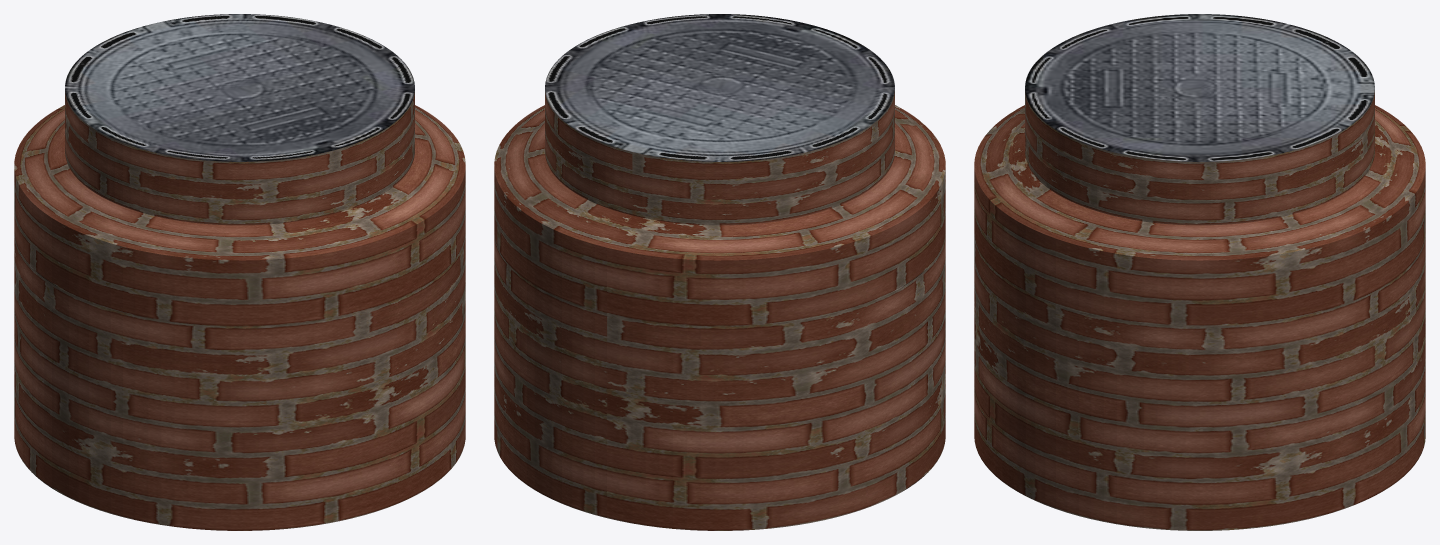
Rendered from well.glb.
3 renders of one model, left to right at view 1: azimuth 30°, elevation 25°; view 2: azimuth 150°, elevation 25°; view 3: azimuth 270°, elevation 25°, orthographic.
Visible parts, largest first — view 1: Cylinder.001; view 2: Cylinder.001; view 3: Cylinder.001.
Part boxes in pixels (bbox=[...]): Cylinder.001: bbox=[14, 14, 465, 530]; Cylinder.001: bbox=[494, 14, 945, 530]; Cylinder.001: bbox=[974, 14, 1425, 530].
Bounding box in the file's own units: 2.58 × 2.19 × 2.58.
Materials: 1 (1 with a texture image).
